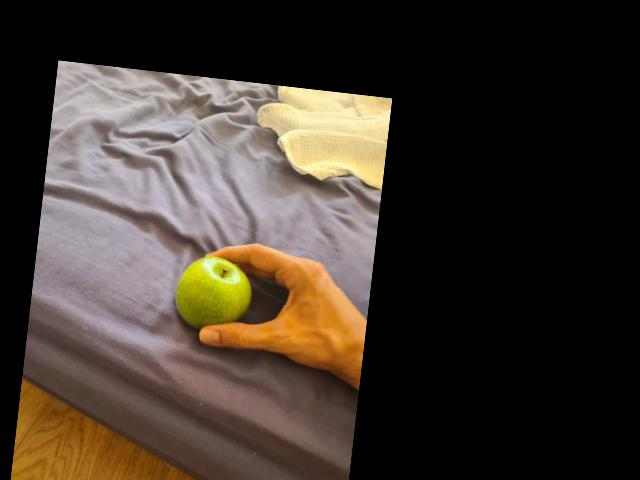apple: (175, 252, 246, 333)
